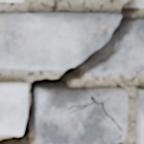brick: (35, 87, 127, 143), (0, 82, 26, 134), (137, 88, 143, 143), (138, 0, 143, 6), (0, 0, 23, 1)
broken_brick: (0, 11, 119, 70), (87, 17, 143, 75)
crack: (0, 0, 141, 143), (65, 95, 123, 143)
